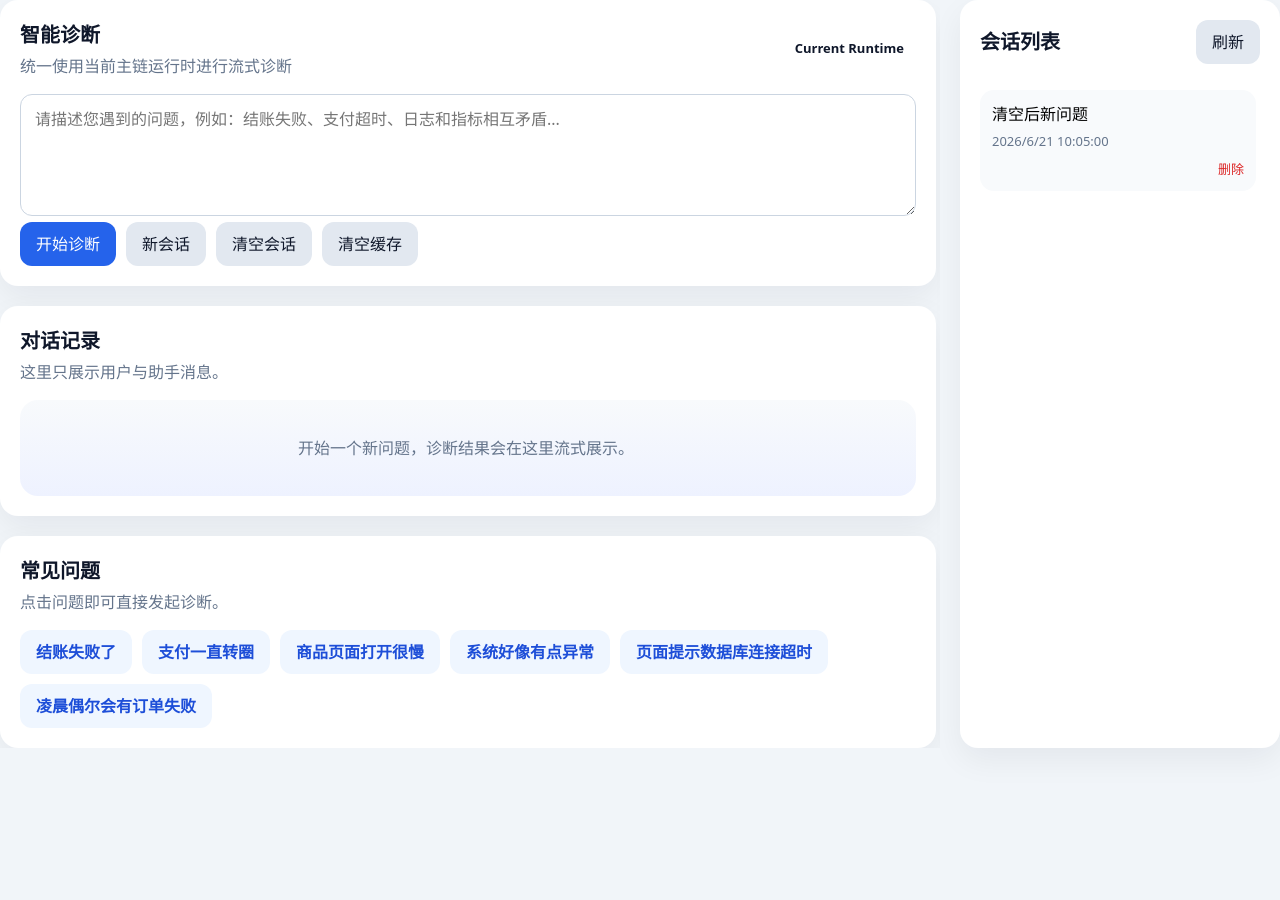
DiagnosisPage › 可以在智能诊断页清空热点答案缓存
Click the button "清空缓存": {"x": 370, "y": 244} [322,222,418,266]
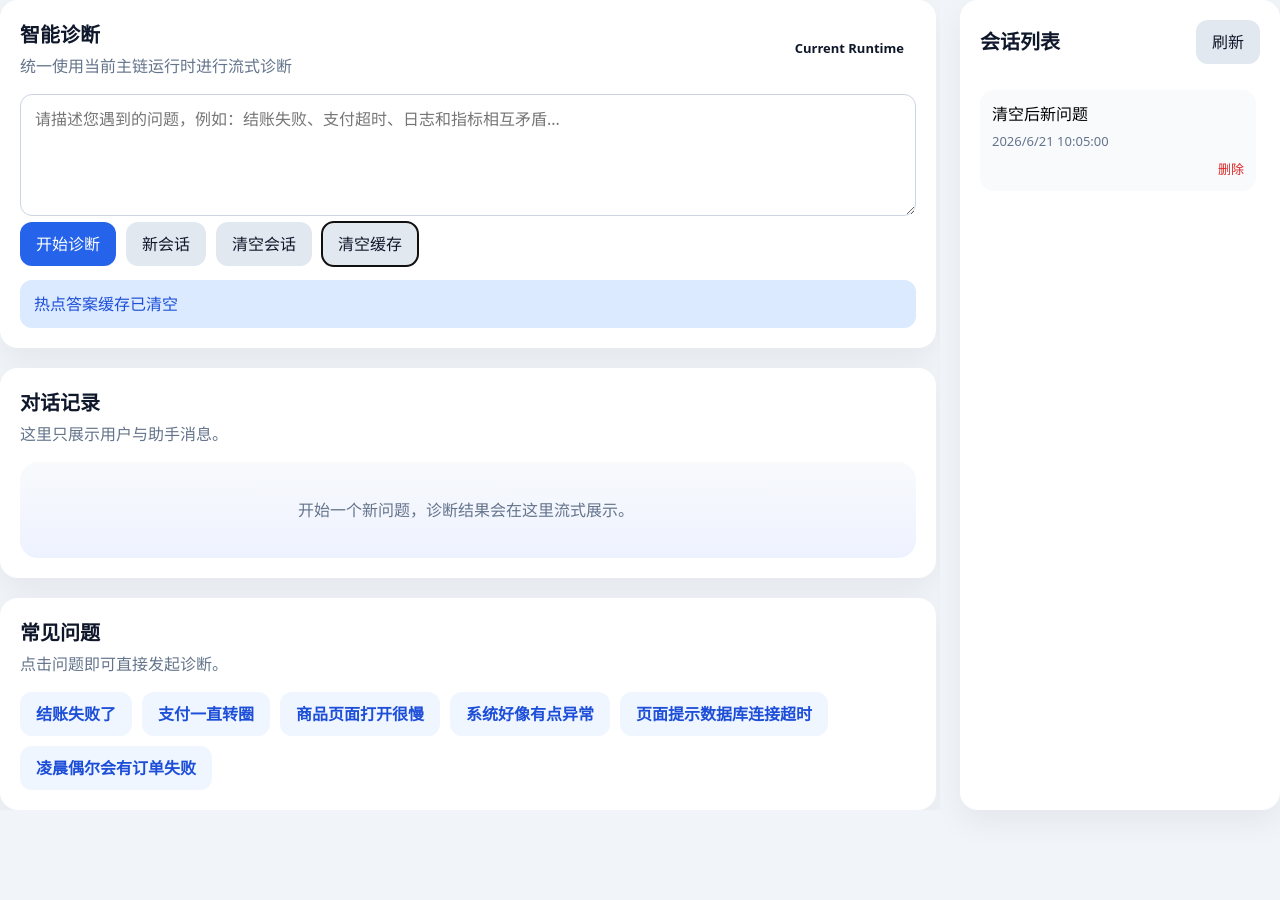
Now the text "热点答案缓存已清空" is shown, box [20,280,916,328]
